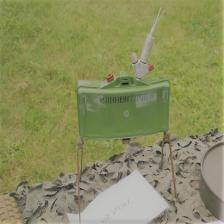MOH-50: (72, 72, 191, 172)
